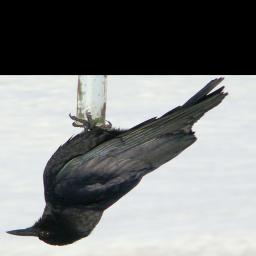Crow: (3, 76, 230, 247)
